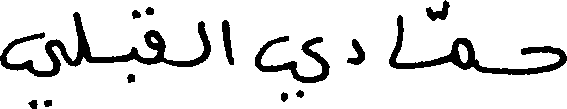ا: (389, 12, 403, 69), (219, 17, 232, 65)
ب: (126, 44, 136, 83)
ح: (522, 44, 565, 76)
د: (345, 36, 362, 64)
ق: (144, 4, 164, 64)
ل: (72, 9, 85, 66), (197, 18, 210, 65)
م: (452, 36, 472, 71)
ي: (253, 33, 327, 102), (0, 30, 64, 107)
